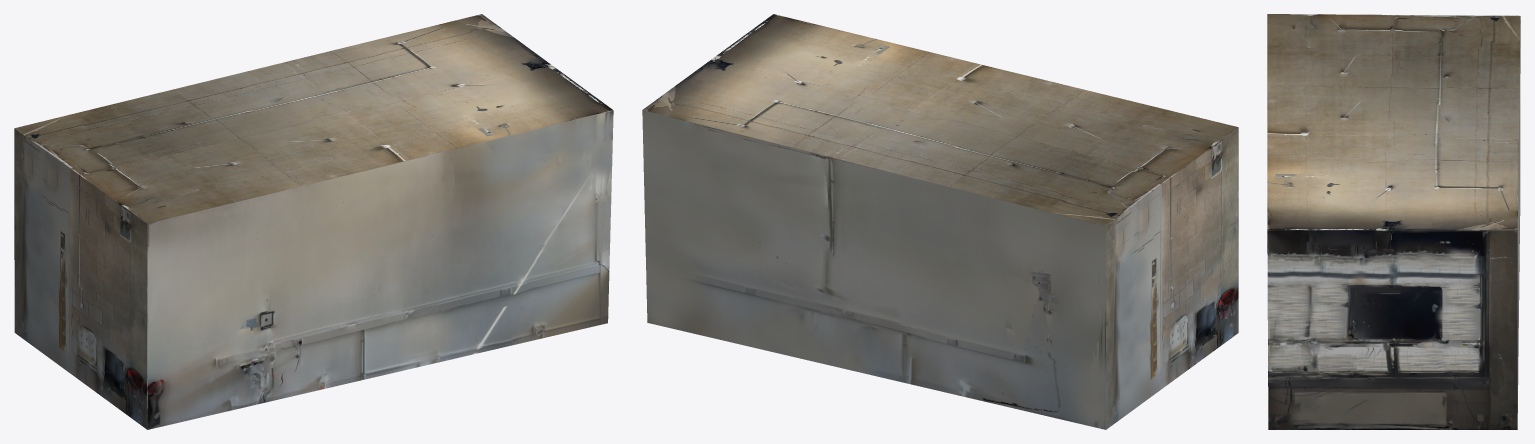
3 renders of one model, left to right at view 1: azimuth 30°, elevation 25°; view 2: azimuth 150°, elevation 25°; view 3: azimuth 270°, elevation 25°, orthographic. The views are drawn at different scales.
Parts seen in each view (by area): view 1: 1_m103v2-IM; view 2: 1_m103v2-IM; view 3: 1_m103v2-IM.
Boxes of the visible parts, left/top/right/bottom form: 1_m103v2-IM: left=14, top=14, right=613, bottom=429; 1_m103v2-IM: left=642, top=14, right=1238, bottom=429; 1_m103v2-IM: left=1267, top=14, right=1520, bottom=429.
Bounding box in the file's own units: 719 × 313 × 356.
1 material, 1 textured.
